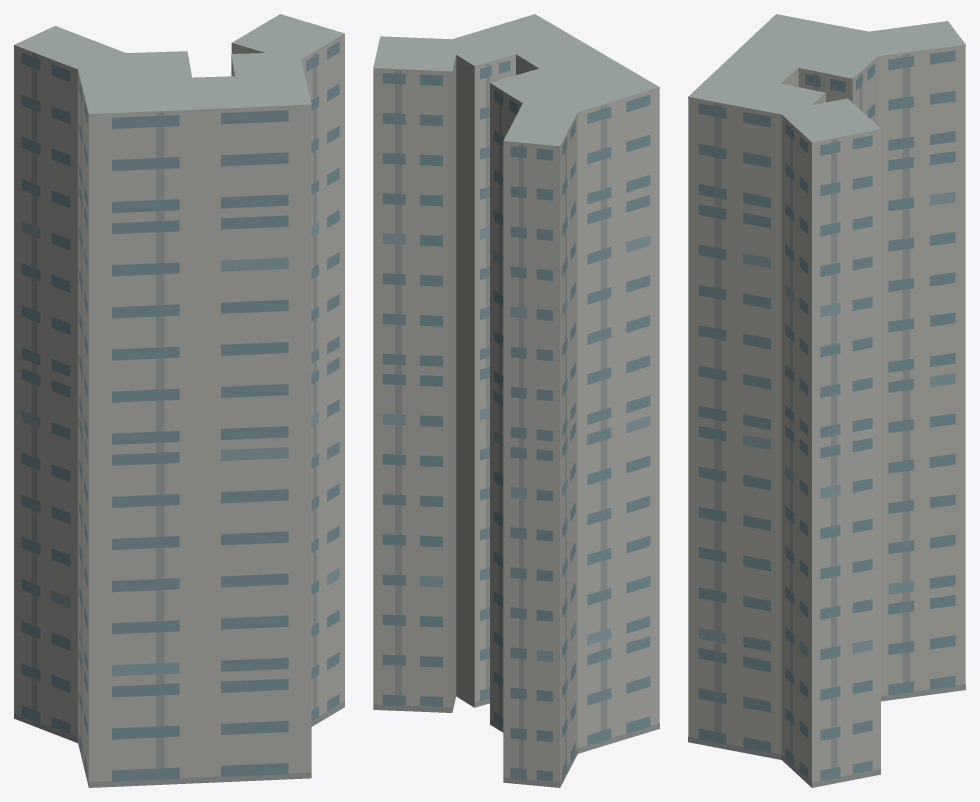
The model's file is residential-8ed4d0f7-4b3e-40a3-8ff4-25bafbad1903.glb.
The picture shows the model from 3 angles, left to right: view 1: azimuth 30°, elevation 25°; view 2: azimuth 150°, elevation 25°; view 3: azimuth 270°, elevation 25°; orthographic projection. The views are drawn at different scales.
Parts seen in each view (by area): view 1: residential-8ed4d0f7-4b3e-40a3-8ff4-25bafbad1903.tmp; view 2: residential-8ed4d0f7-4b3e-40a3-8ff4-25bafbad1903.tmp; view 3: residential-8ed4d0f7-4b3e-40a3-8ff4-25bafbad1903.tmp.
Boxes of the visible parts, x1,y1,x2,y2 form: residential-8ed4d0f7-4b3e-40a3-8ff4-25bafbad1903.tmp: (14,14,344,787); residential-8ed4d0f7-4b3e-40a3-8ff4-25bafbad1903.tmp: (373,14,659,787); residential-8ed4d0f7-4b3e-40a3-8ff4-25bafbad1903.tmp: (688,14,965,787).
Bounding box in the file's own units: 44.39 × 104 × 40.55.
